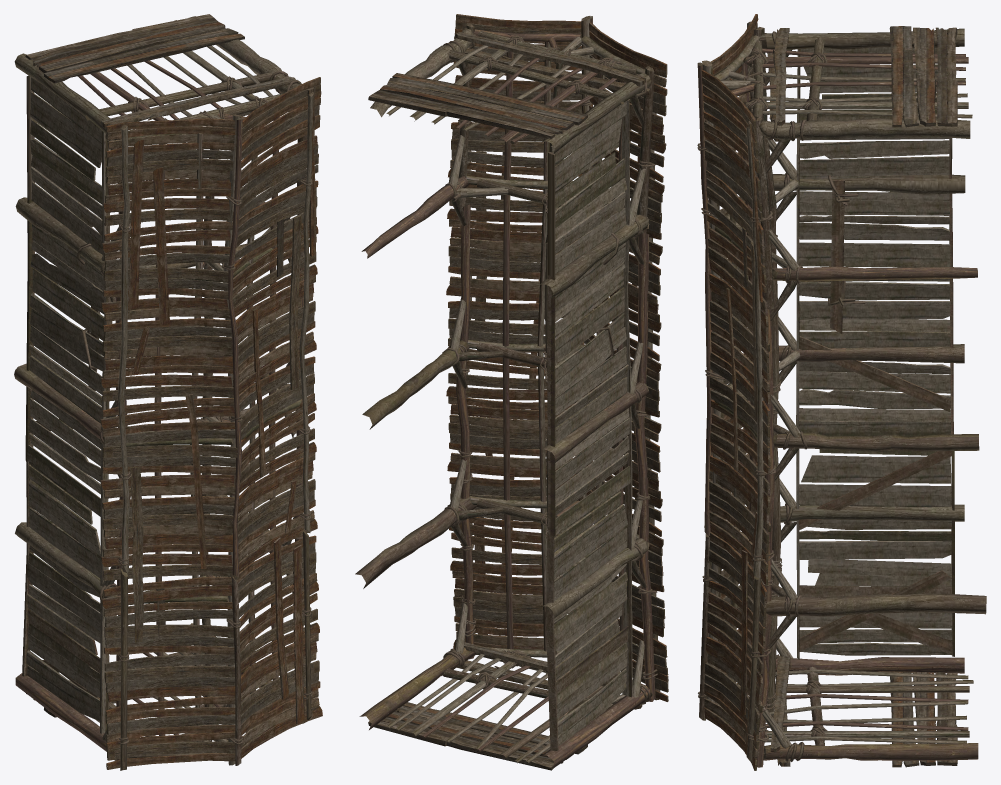
File: GEN_PRO_HorseStable_17m_01_LOD0-transformed.glb
The picture shows the model from 3 angles, left to right: view 1: azimuth 30°, elevation 25°; view 2: azimuth 150°, elevation 25°; view 3: azimuth 270°, elevation 25°; orthographic projection. The views are drawn at different scales.
Visible parts, largest first — view 1: GEN_PRO_HorseStable_17m_01_LOD0; view 2: GEN_PRO_HorseStable_17m_01_LOD0; view 3: GEN_PRO_HorseStable_17m_01_LOD0.
Part boxes in pixels (bbox=[...]): GEN_PRO_HorseStable_17m_01_LOD0: bbox=[14, 14, 322, 770]; GEN_PRO_HorseStable_17m_01_LOD0: bbox=[355, 14, 668, 770]; GEN_PRO_HorseStable_17m_01_LOD0: bbox=[697, 14, 986, 770].
Size of the model in its own units: 0.0611 by 0.1753 by 0.0695.
4 materials, 4 textured.
